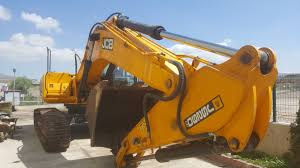excavator: (38, 14, 278, 168)
